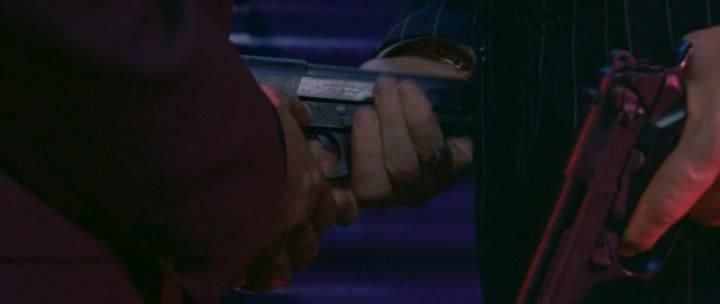gun: (518, 38, 688, 298), (247, 43, 481, 218)
